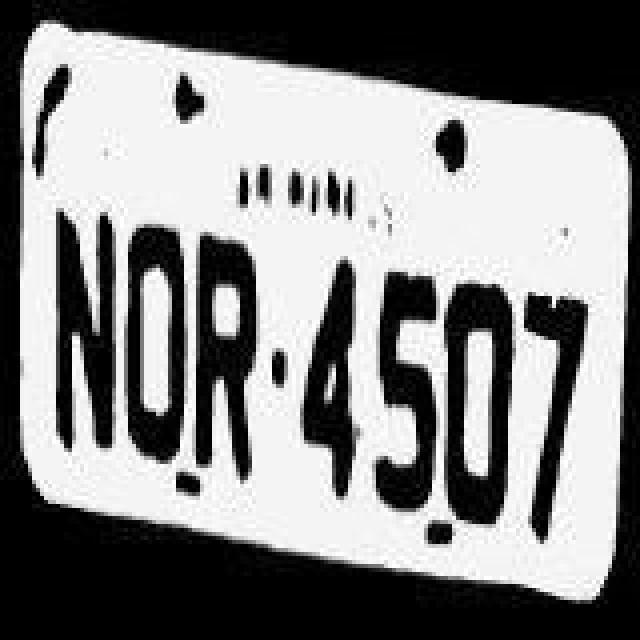4: (296, 252, 368, 512)
5: (370, 258, 446, 522)
7: (518, 252, 594, 556)
N: (46, 200, 122, 472)
O: (444, 272, 516, 532), (120, 220, 184, 476)
R: (192, 232, 272, 484)
